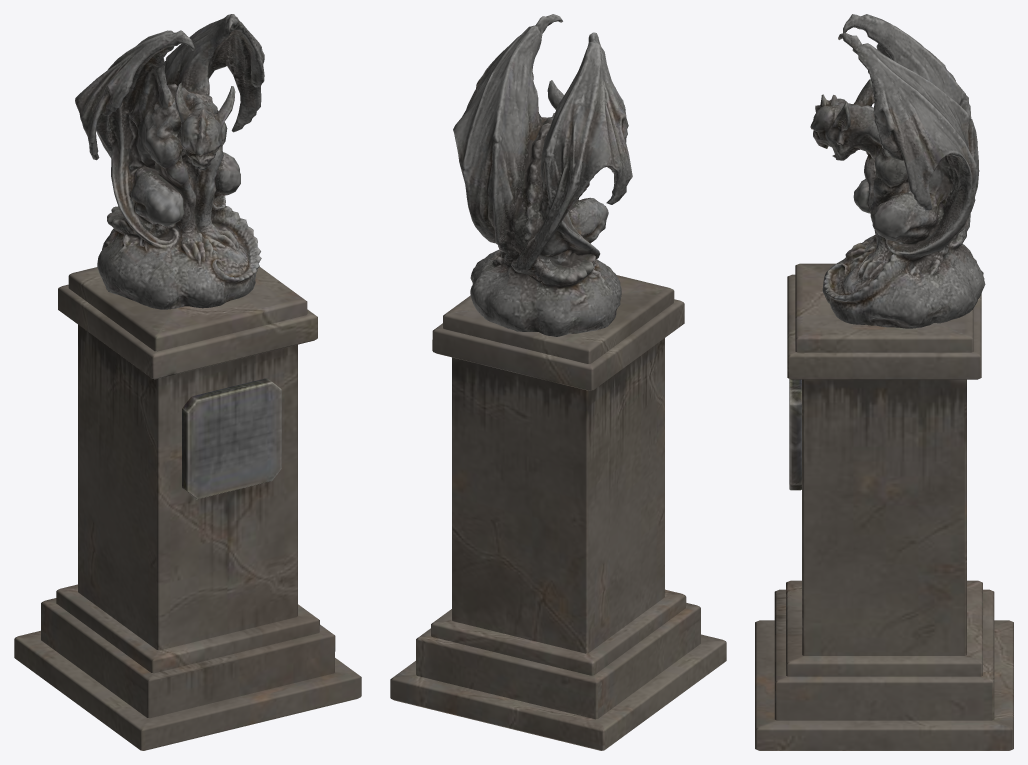
File: SM_Gargoyle_Statue_On_Stand.glb
3 views of the same model, side by side, from view 1: azimuth 30°, elevation 25°; view 2: azimuth 150°, elevation 25°; view 3: azimuth 270°, elevation 25° (orthographic). The views are drawn at different scales.
Visible parts, largest first — view 1: SM_Gargoyle_Statue_On_Stand; view 2: SM_Gargoyle_Statue_On_Stand; view 3: SM_Gargoyle_Statue_On_Stand.
Part boxes in pixels (<box>): SM_Gargoyle_Statue_On_Stand: <box>14,14,361,750</box>; SM_Gargoyle_Statue_On_Stand: <box>390,14,726,750</box>; SM_Gargoyle_Statue_On_Stand: <box>755,14,1013,750</box>.
Bounding box in the file's own units: 0.5943 × 1.71 × 0.5943.
Materials: 2 (2 with a texture image).
